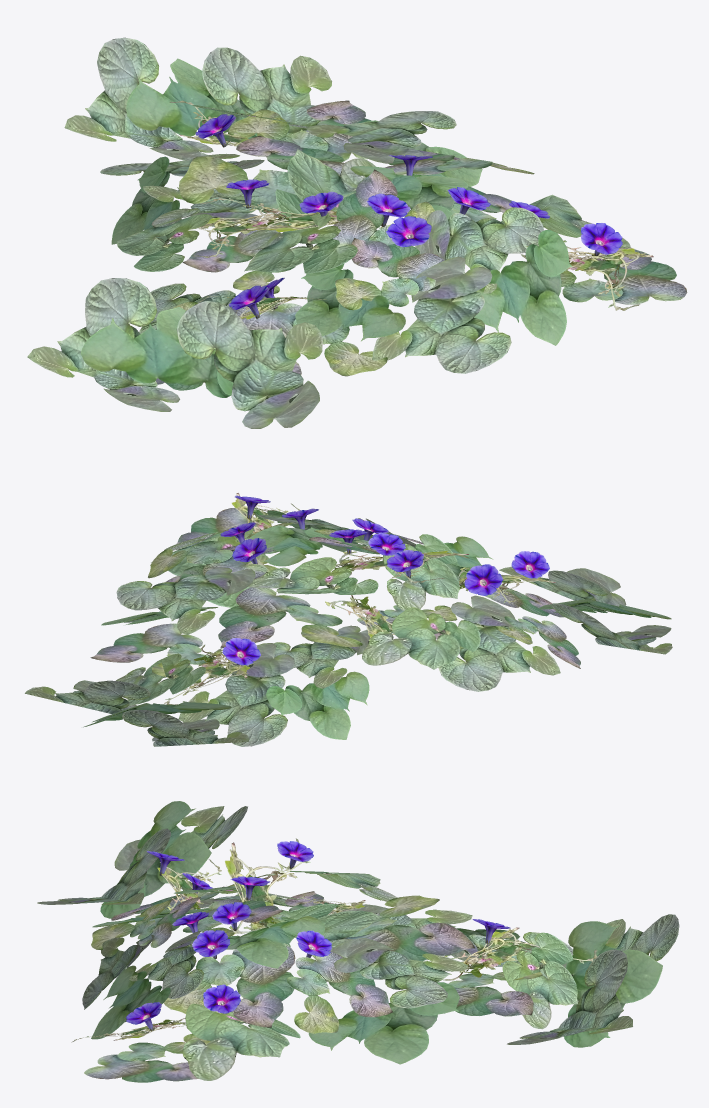
The model's file is MorningGlory2B.fbx.
3 renders of one model, top to bottom at view 1: azimuth 30°, elevation 25°; view 2: azimuth 150°, elevation 25°; view 3: azimuth 270°, elevation 25°, orthographic. The views are drawn at different scales.
Parts seen in each view (by area): view 1: MorningGlory2B_LOD0; view 2: MorningGlory2B_LOD0; view 3: MorningGlory2B_LOD0.
Boxes of the visible parts, x1,y1,x2,y2 form: MorningGlory2B_LOD0: (27,37,687,428); MorningGlory2B_LOD0: (25,493,672,746); MorningGlory2B_LOD0: (37,801,679,1082).
Size of what is drawn, in the model's own units: 145 by 31.91 by 153.
